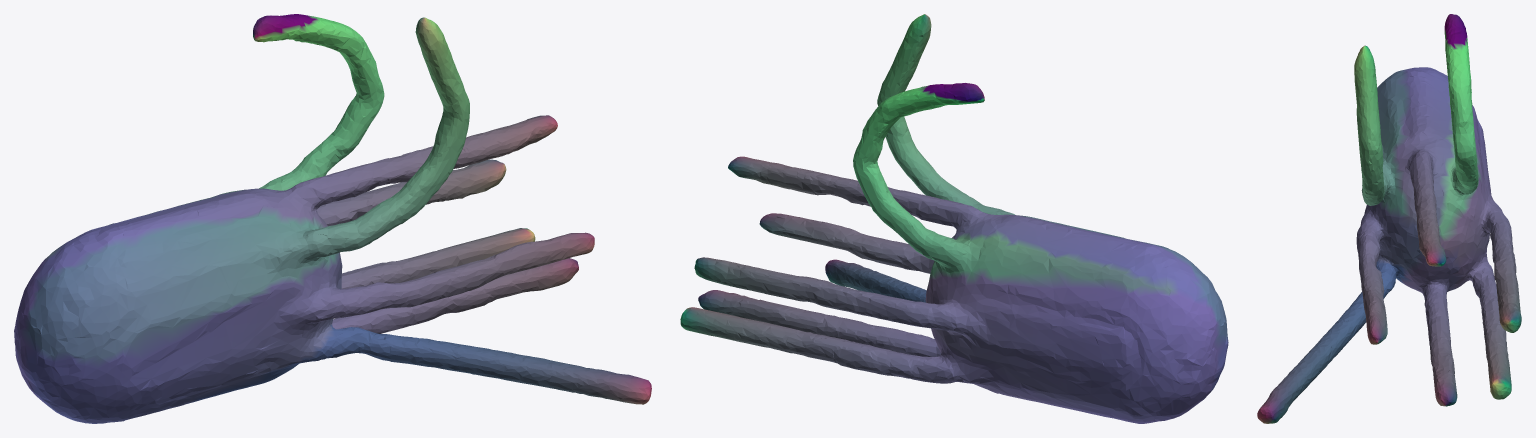
File: octopus-9.off.obj
The picture shows the model from 3 angles, left to right: view 1: azimuth 30°, elevation 25°; view 2: azimuth 150°, elevation 25°; view 3: azimuth 270°, elevation 25°; orthographic projection. The views are drawn at different scales.
Bounding box in the file's own units: 1.61 × 1.03 × 0.7843.
